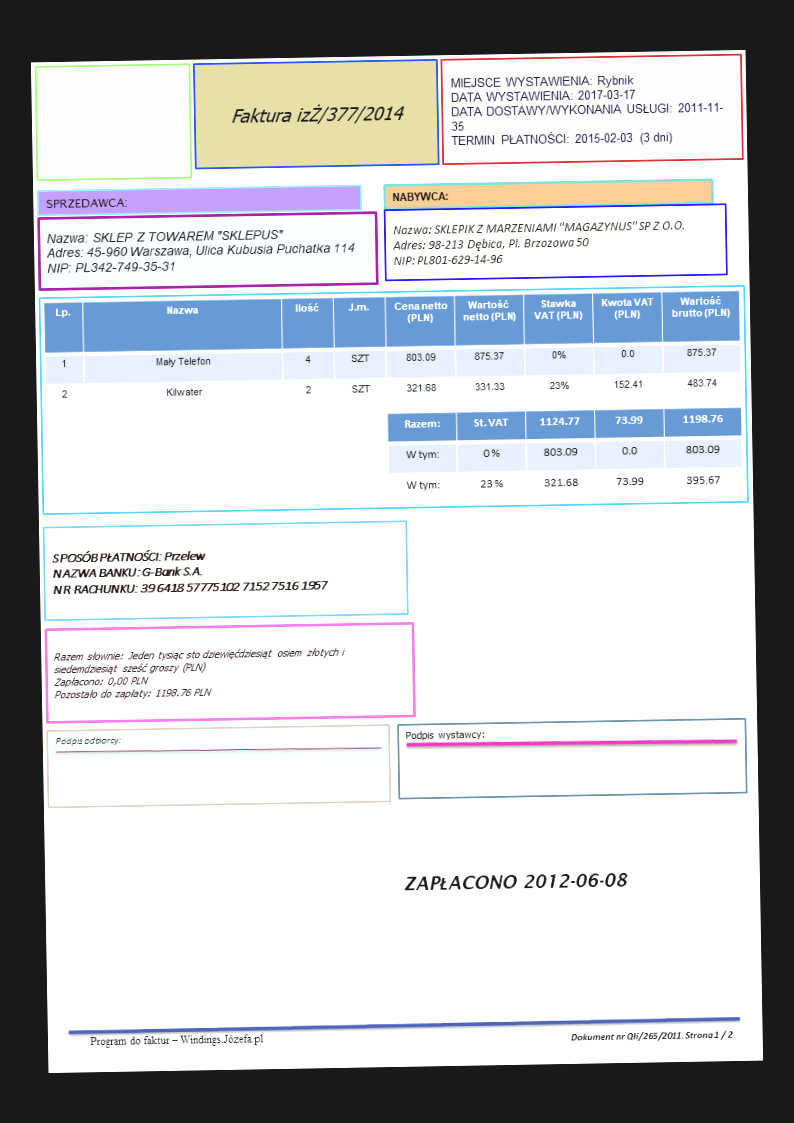Table: (42, 288, 743, 417), (384, 405, 745, 505)
TextBox: (448, 68, 727, 151), (52, 644, 352, 702), (44, 224, 357, 278), (390, 216, 688, 270), (49, 543, 330, 600), (402, 868, 629, 895), (227, 101, 408, 128), (87, 1028, 264, 1051), (568, 1025, 736, 1045), (41, 193, 129, 211), (402, 726, 487, 744), (53, 731, 122, 749), (389, 186, 449, 206)
